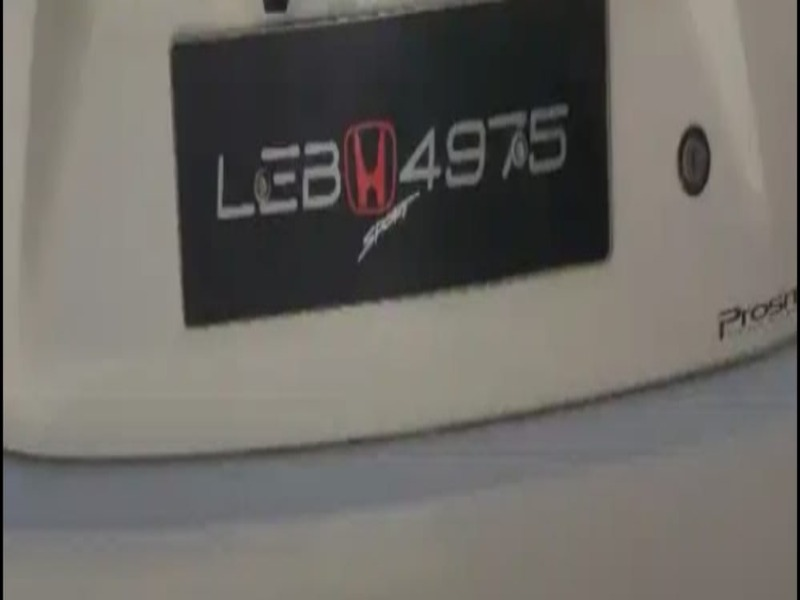License Plate: (171, 32, 609, 296)
